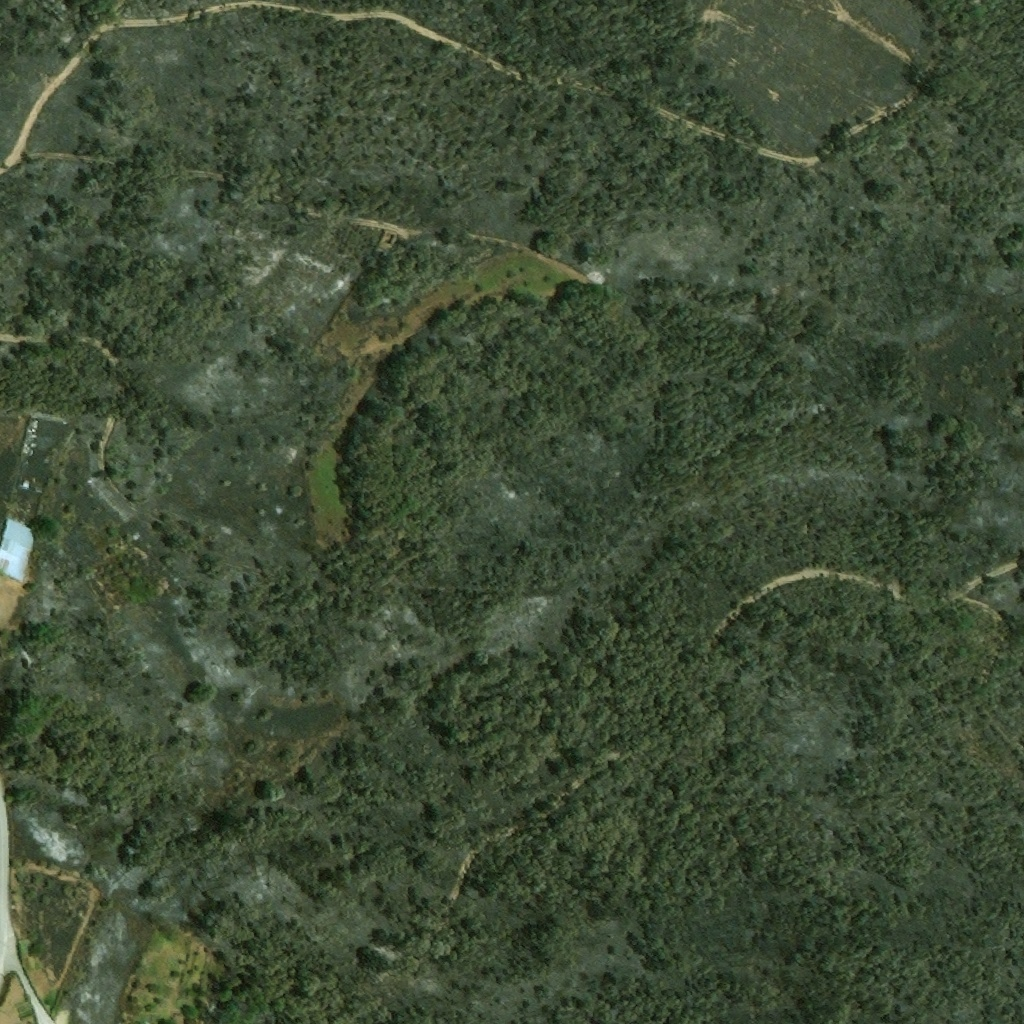0 no-damage: (0, 518, 39, 583)
